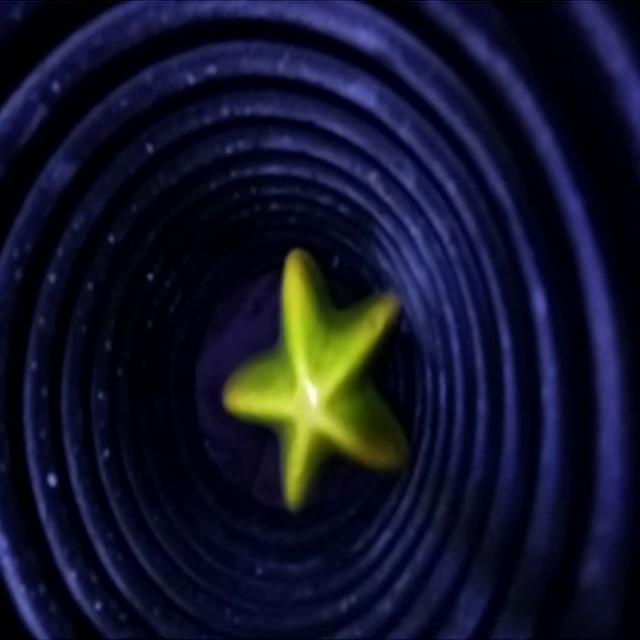obstacles: (223, 251, 407, 505)
